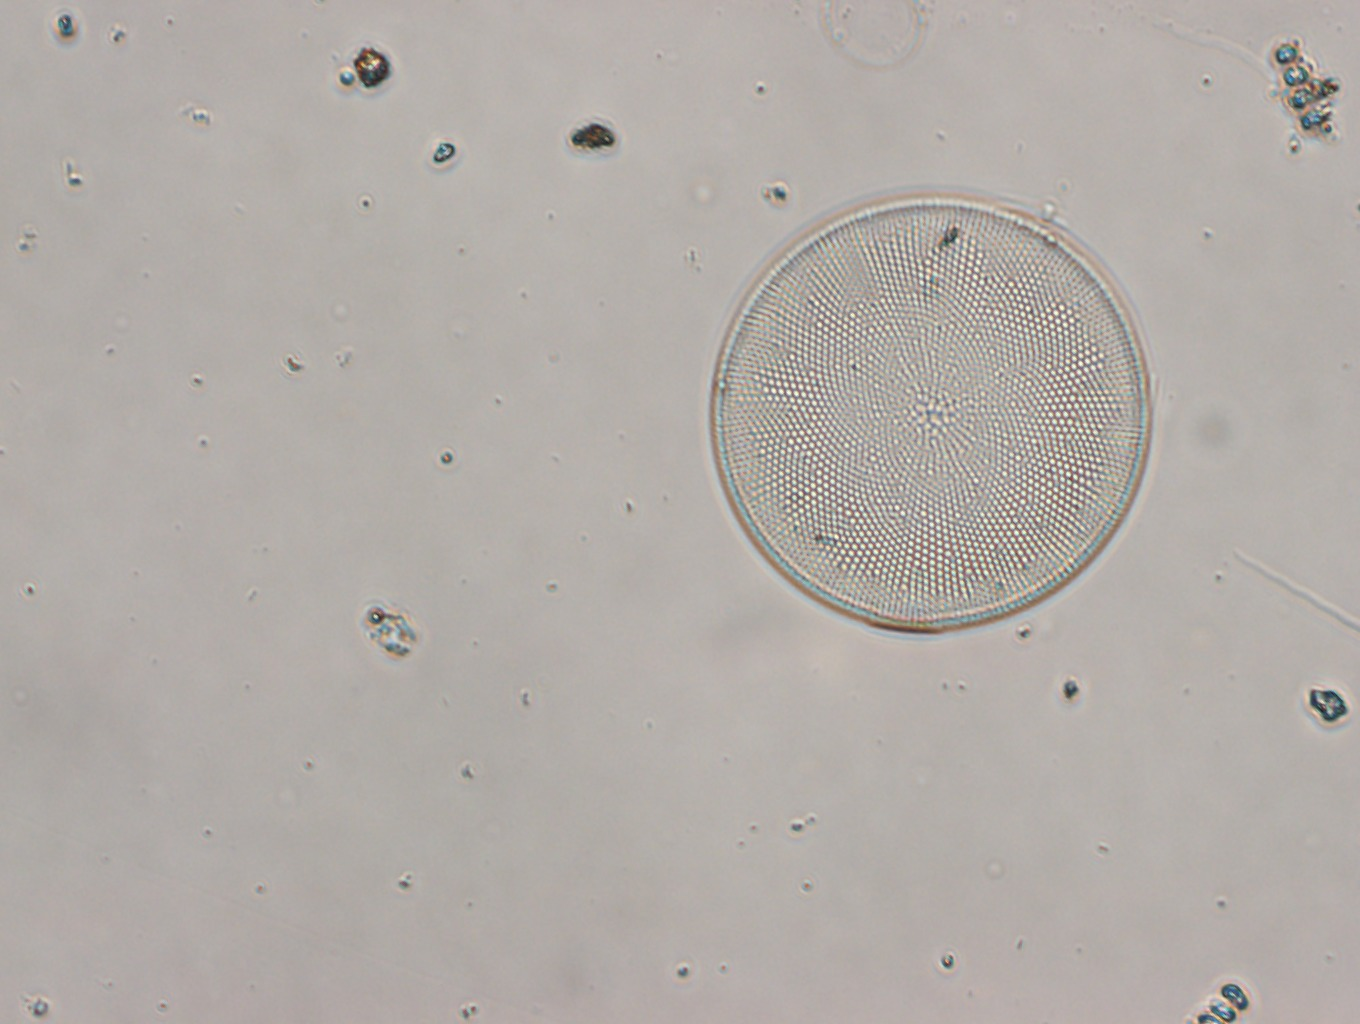coscinodiscus: (710, 183, 1160, 634)
